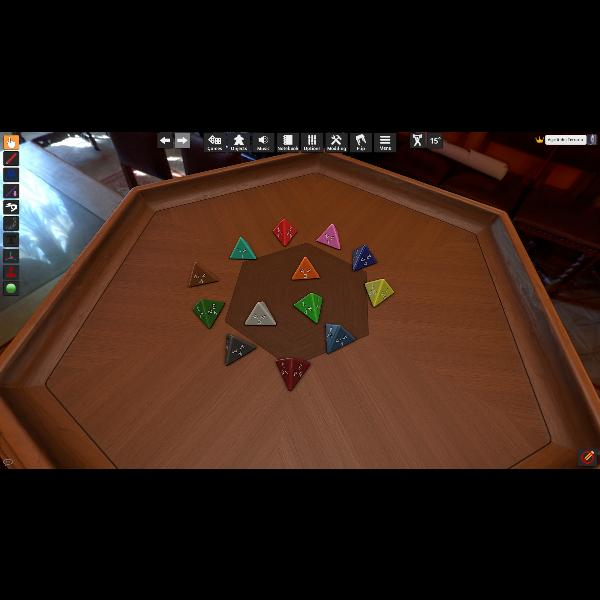d4: (276, 357, 310, 391), (193, 298, 223, 328), (224, 333, 252, 365), (327, 323, 355, 354), (294, 292, 322, 322), (367, 278, 395, 308), (244, 301, 276, 326), (352, 244, 376, 272), (316, 222, 340, 250), (188, 262, 216, 286), (273, 218, 297, 246), (291, 256, 318, 280), (230, 236, 256, 260)
